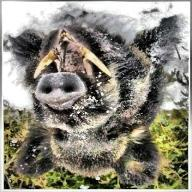boar: (35, 18, 188, 186)
